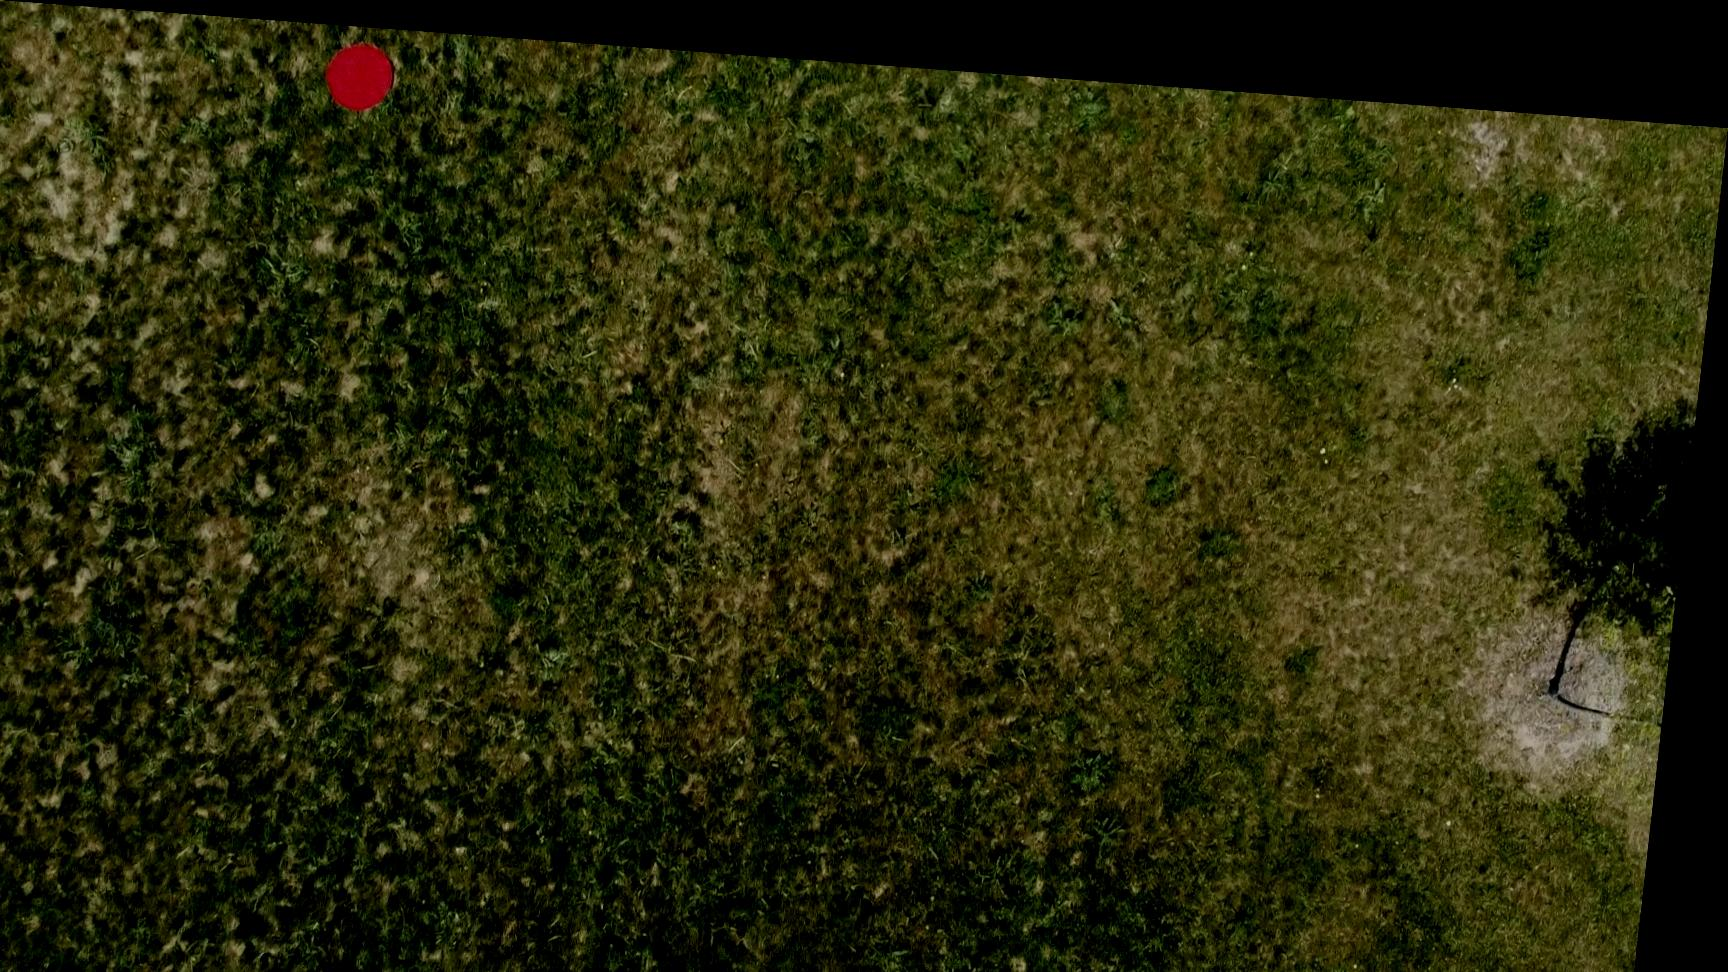Red: (322, 34, 401, 110)
